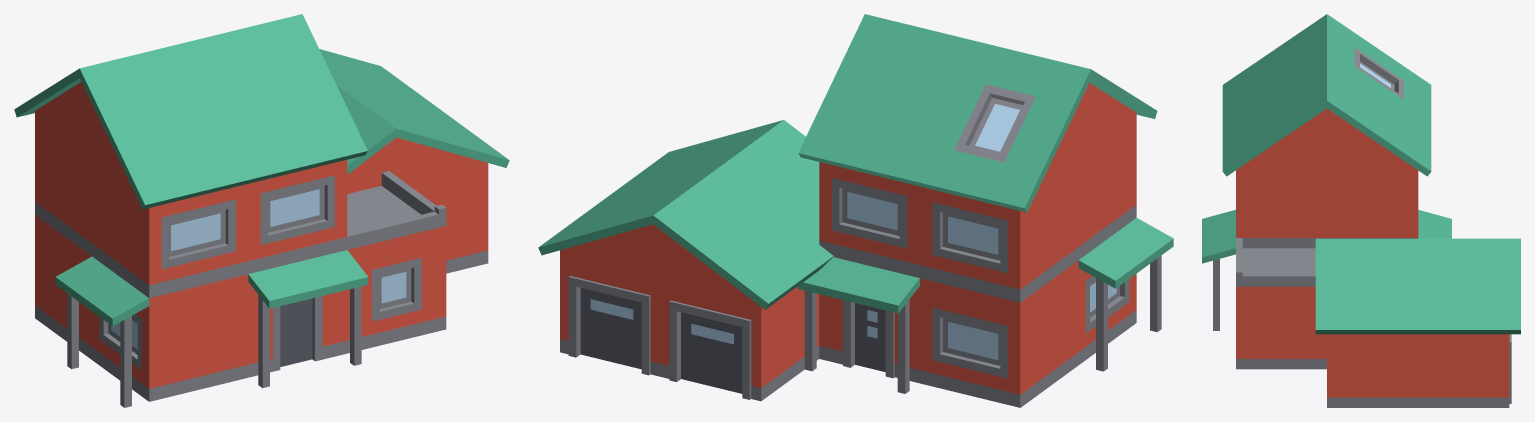
File: house_type10.fbx
3 views of the same model, side by side, from view 1: azimuth 30°, elevation 25°; view 2: azimuth 150°, elevation 25°; view 3: azimuth 270°, elevation 25° (orthographic). The views are drawn at different scales.
Parts seen in each view (by area): view 1: house_type10; view 2: house_type10; view 3: house_type10.
Boxes of the visible parts, x1=… form: house_type10: x1=14, y1=14, x2=509, y2=407; house_type10: x1=538, y1=14, x2=1173, y2=407; house_type10: x1=1202, y1=14, x2=1520, y2=407.
Bounding box in the file's own units: 18.06 × 11.38 × 13.98.
